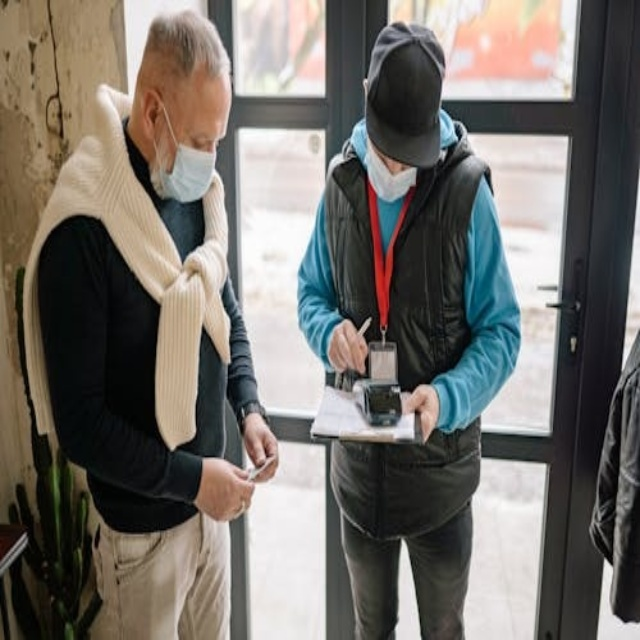Mascara: (152, 103, 217, 202), (364, 140, 419, 203)
Sin_gafas: (175, 113, 229, 150)
Sin_guantes: (198, 455, 262, 526), (328, 317, 370, 376), (402, 381, 438, 444)
